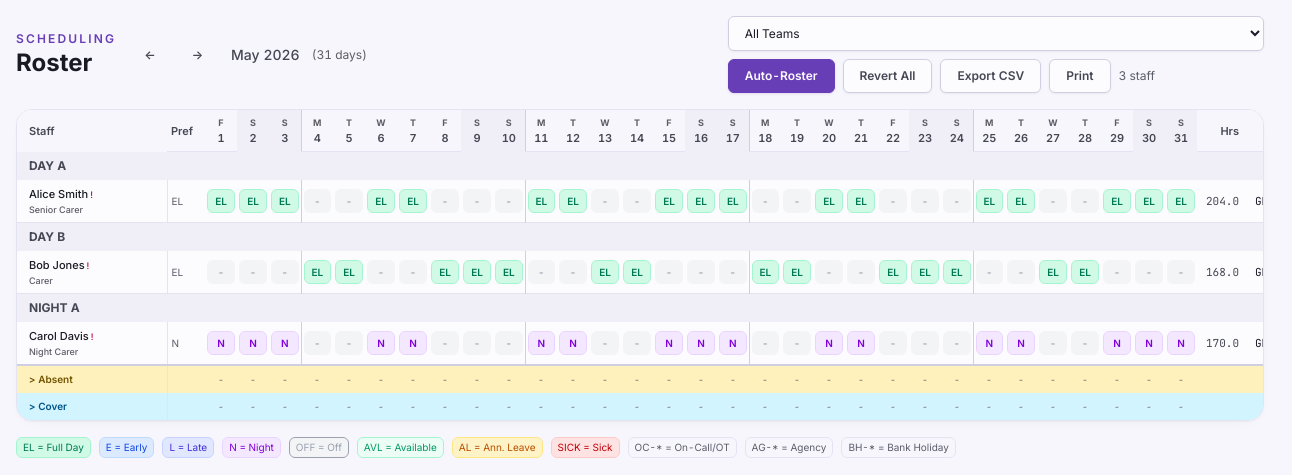
Test: RotationGrid › team filter dropdown filters staff to selected team
The image size is (1292, 475).
Expected: the text "Alice Smith" is shown, [29,187,88,201]
Expected: the text "Bob Jones" is shown, [29,258,85,272]
Select "Day A" in the dropdown named "Team filter" at (996, 34), box [728,16,1264,51]
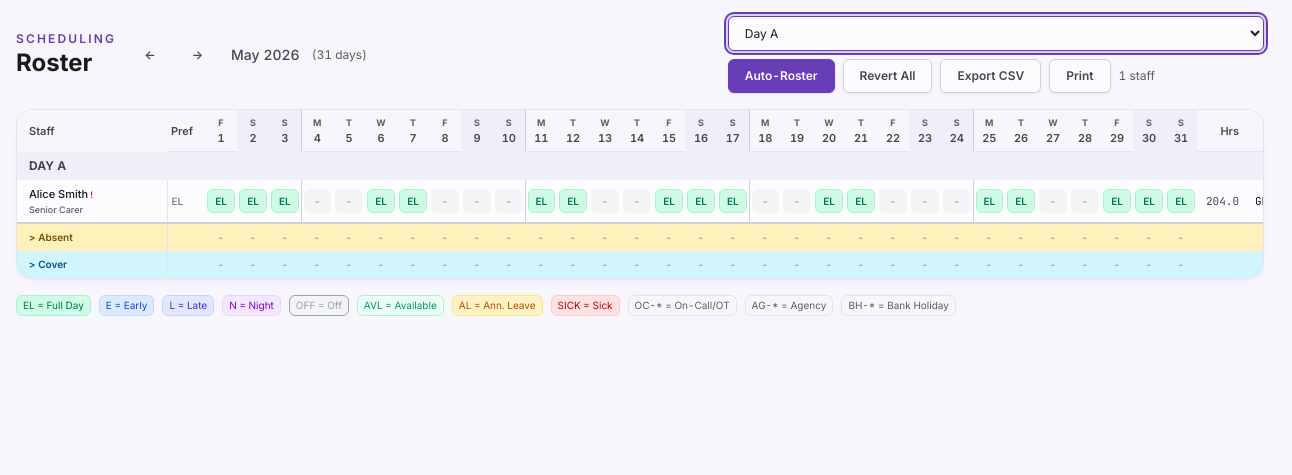
Expected: the text "Alice Smith" is shown, [29,187,88,201]
Result: the text "Bob Jones" is gone
Result: the text "Carol Davis" is gone
